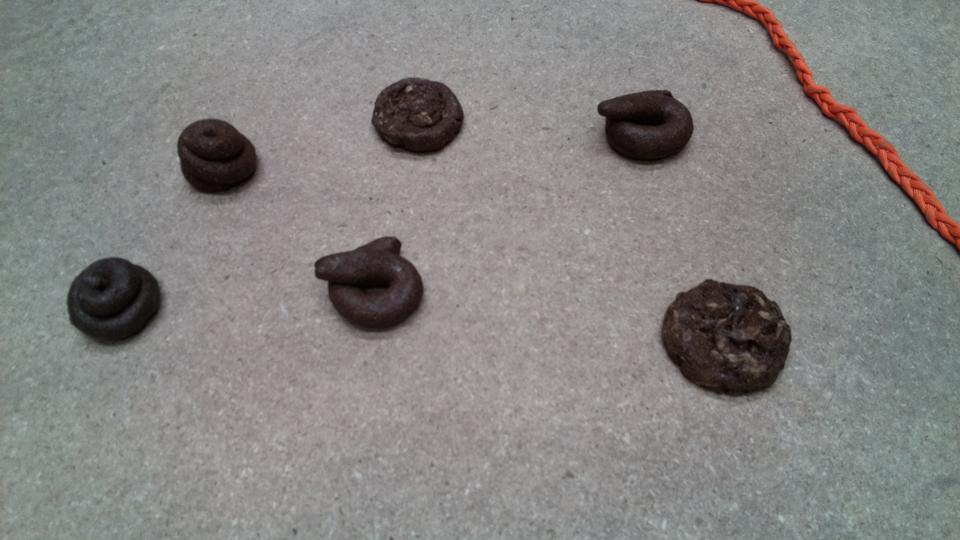poop: (658, 274, 797, 401), (310, 233, 428, 335), (63, 254, 167, 349), (370, 71, 467, 157), (595, 87, 695, 170), (175, 114, 261, 199)
rope: (695, 1, 960, 260)
